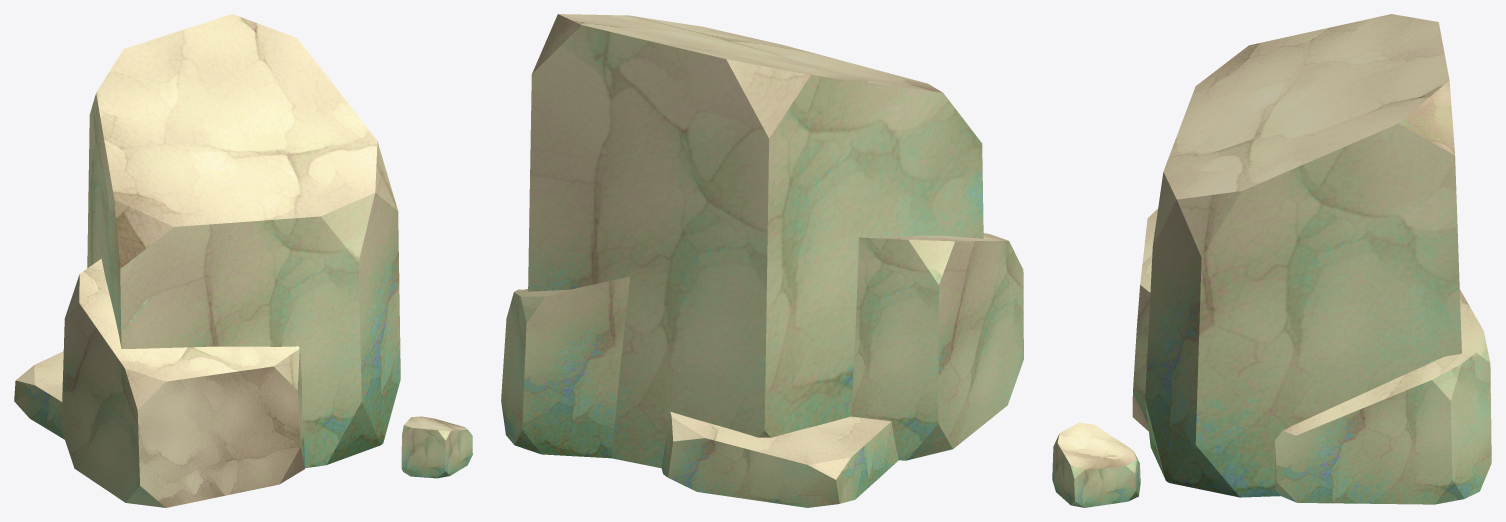
The model's file is rock001.glb.
3 renders of one model, left to right at view 1: azimuth 30°, elevation 25°; view 2: azimuth 150°, elevation 25°; view 3: azimuth 270°, elevation 25°, orthographic. The views are drawn at different scales.
Visible parts, largest first — view 1: rock001; view 2: rock001; view 3: rock001.
Part boxes in pixels (left/top/right/bottom): rock001: left=14, top=14, right=472, bottom=507; rock001: left=501, top=14, right=1023, bottom=507; rock001: left=1052, top=14, right=1491, bottom=507.
Bounding box in the file's own units: 0.8373 × 0.902 × 0.9252.
Materials: 1 (1 with a texture image).
